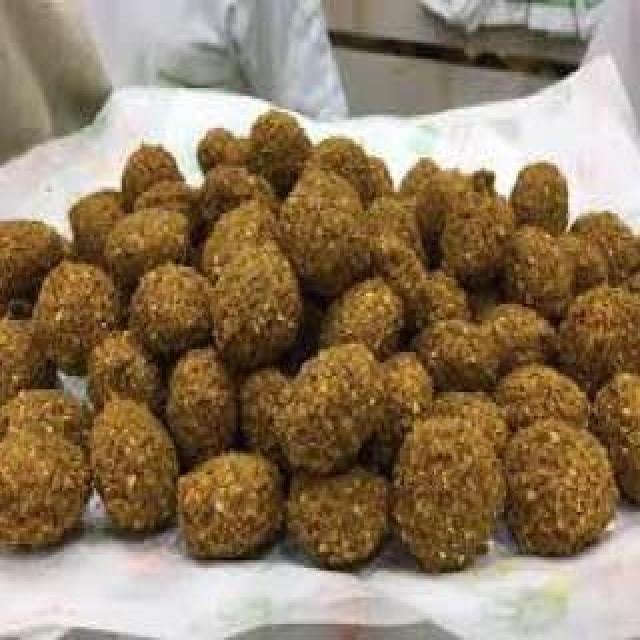taamia: (0, 99, 640, 594)
